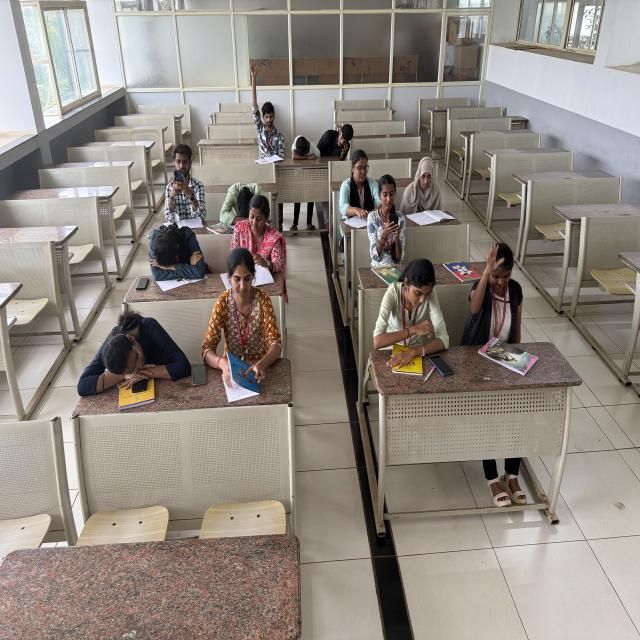Hand Rising: (462, 214, 551, 364), (237, 37, 291, 172)
Reading: (409, 131, 465, 251)
Sleeping: (79, 302, 192, 384), (140, 203, 215, 294), (214, 163, 276, 236), (285, 120, 324, 183)
Using Phone: (146, 128, 217, 224), (371, 156, 405, 248)
